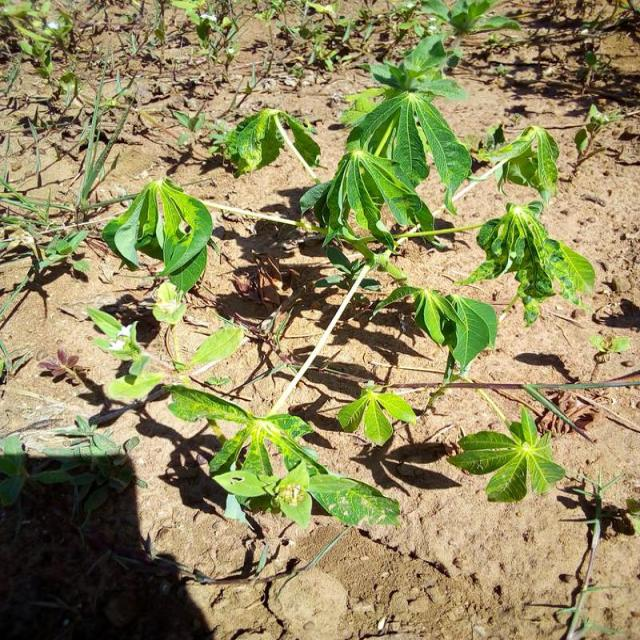cassava leaf: (104, 176, 214, 293), (448, 407, 566, 502), (224, 106, 322, 179)
